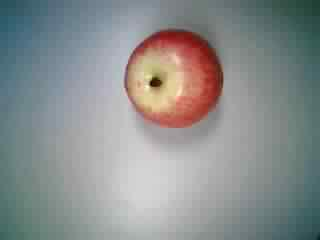apple: (119, 26, 224, 128)
